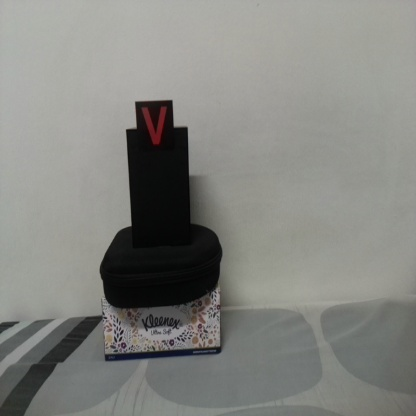id_11: (135, 103, 175, 158)
